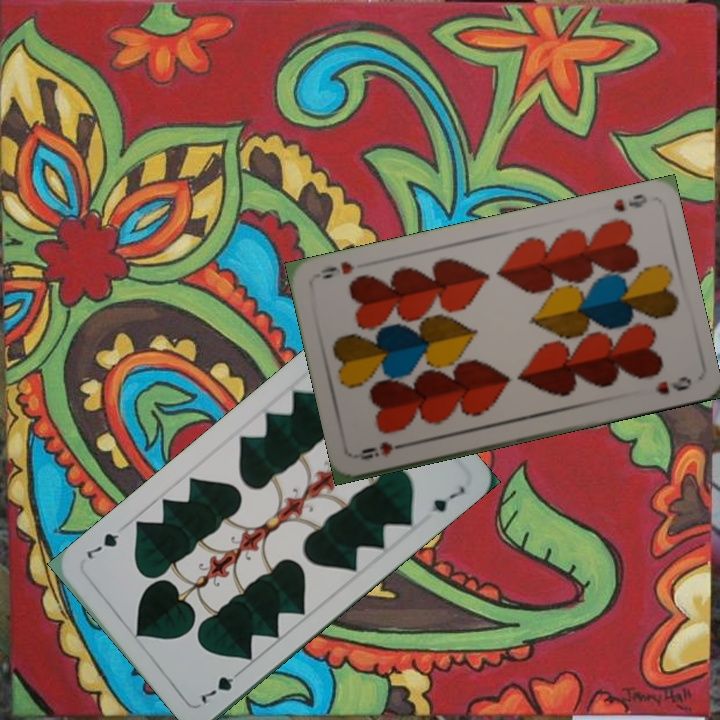G7: (196, 664, 246, 709)
H9: (353, 437, 412, 463), (609, 190, 650, 215)
